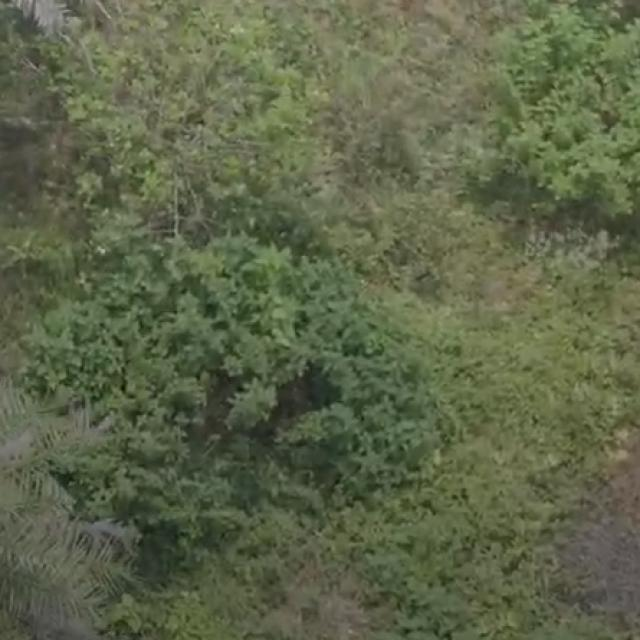notMangoTree: (18, 205, 451, 569), (40, 0, 302, 204), (514, 0, 636, 251)
